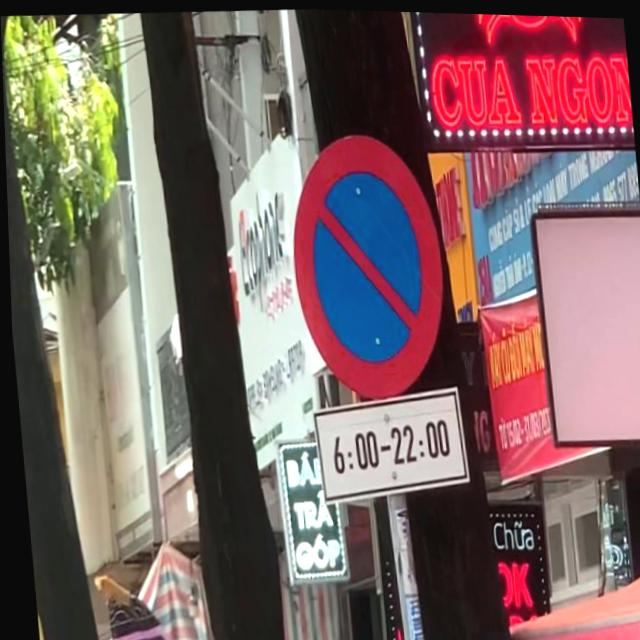Cam do xe: (281, 127, 452, 403)
